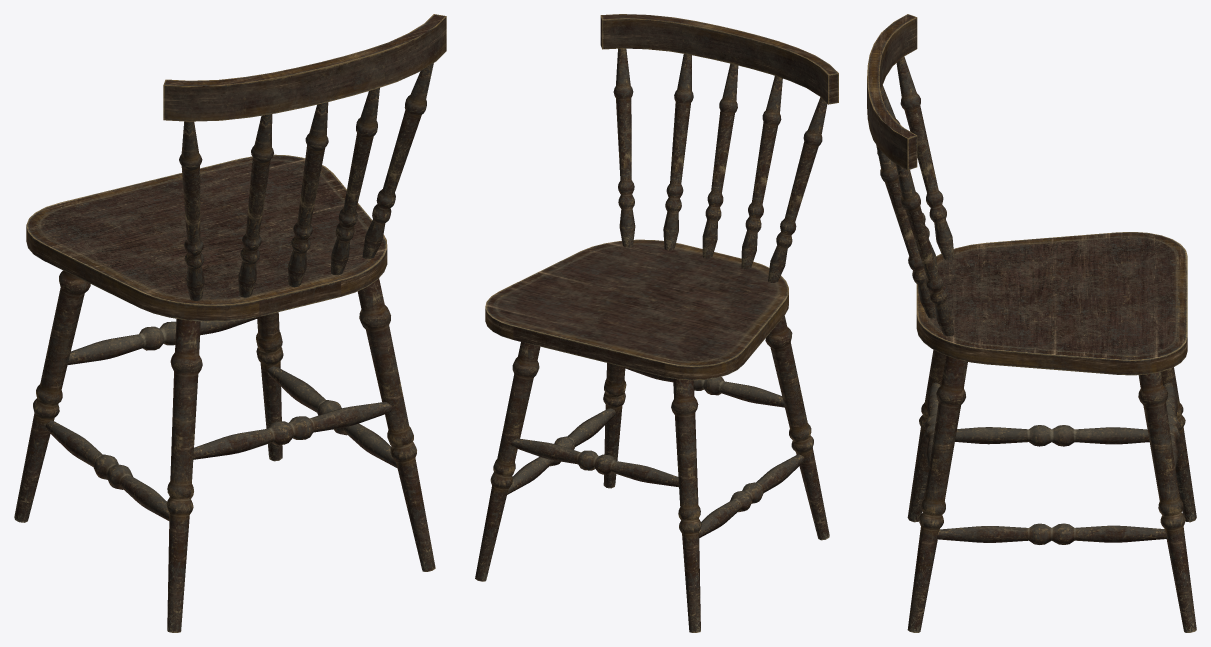
Rendered from MS_Chail_Old.fbx.
The picture shows the model from 3 angles, left to right: view 1: azimuth 30°, elevation 25°; view 2: azimuth 150°, elevation 25°; view 3: azimuth 270°, elevation 25°; orthographic projection. The views are drawn at different scales.
Visible parts, largest first — view 1: MS_Chail_Old; view 2: MS_Chail_Old; view 3: MS_Chail_Old.
Boxes of the visible parts, left/top/right/bottom form: MS_Chail_Old: left=14, top=14, right=446, bottom=632; MS_Chail_Old: left=475, top=14, right=838, bottom=632; MS_Chail_Old: left=867, top=14, right=1196, bottom=632.
Bounding box in the file's own units: 0.4919 × 0.89 × 0.5323.
